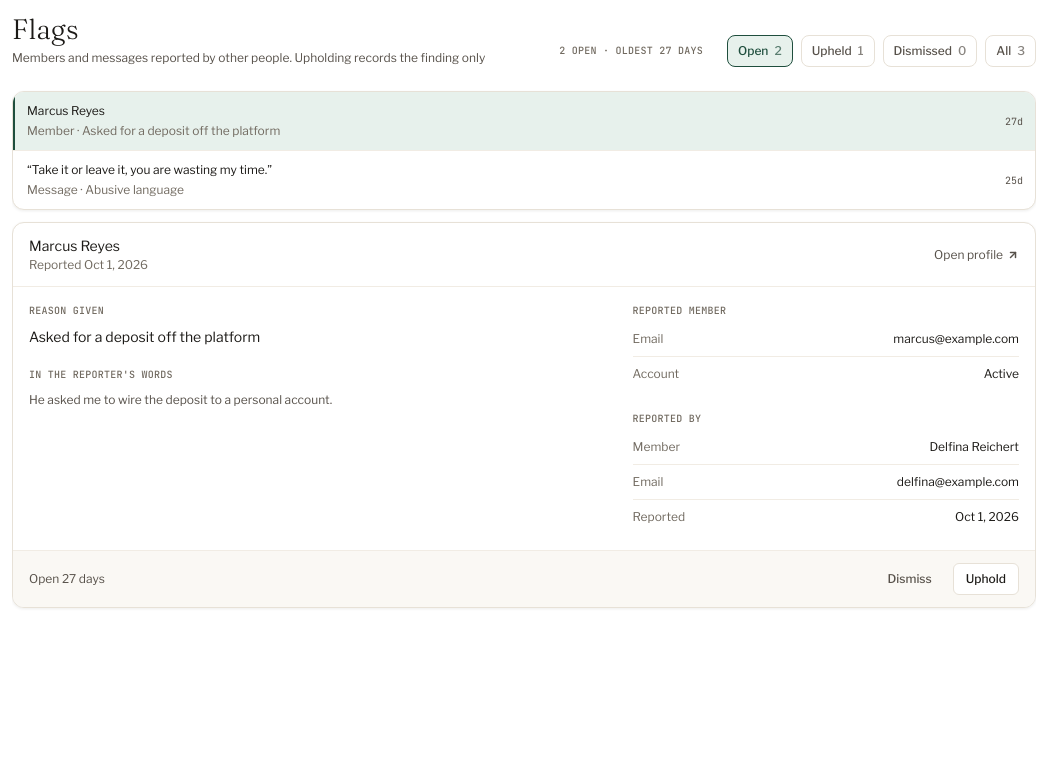
AdminFlagsConsole · reviewing a report › quotes a reported message and links to its sender
Click the button "Take it or leave it" at (150, 170), box [13,151,1035,209]
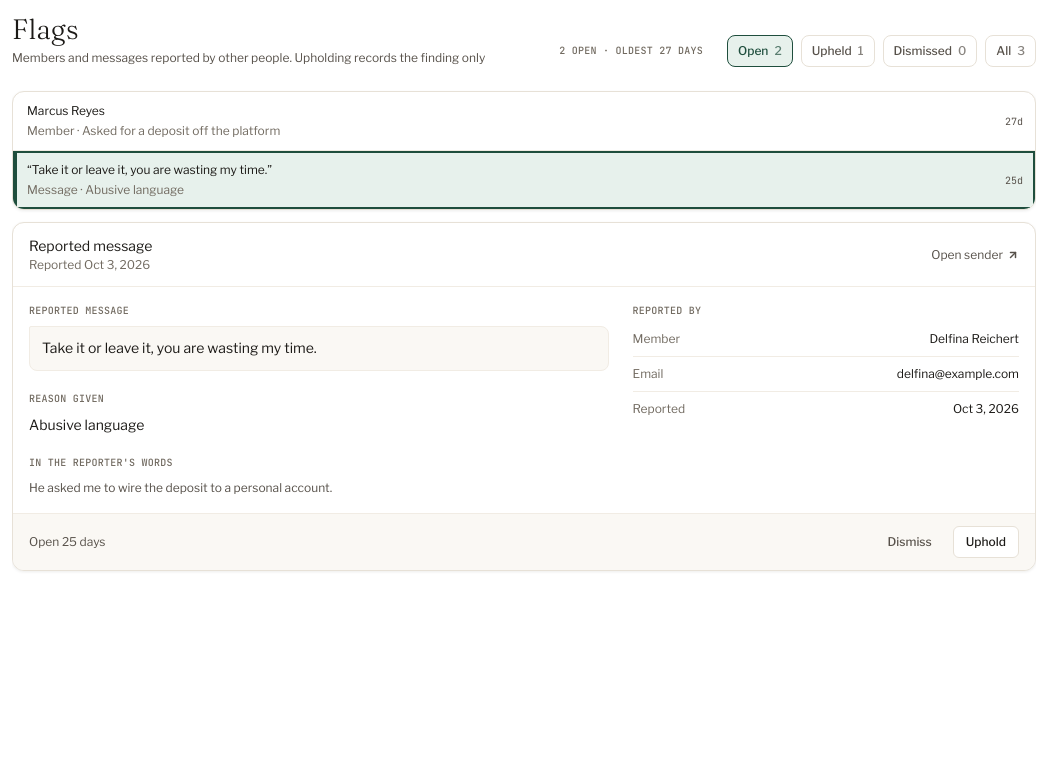
expect the heading "Reported message" next to "Open sender" is shown: met, box [29,237,152,254]
expect the text "Take it or leave it, you are wasting my time." is shown: met, box [29,326,609,371]
